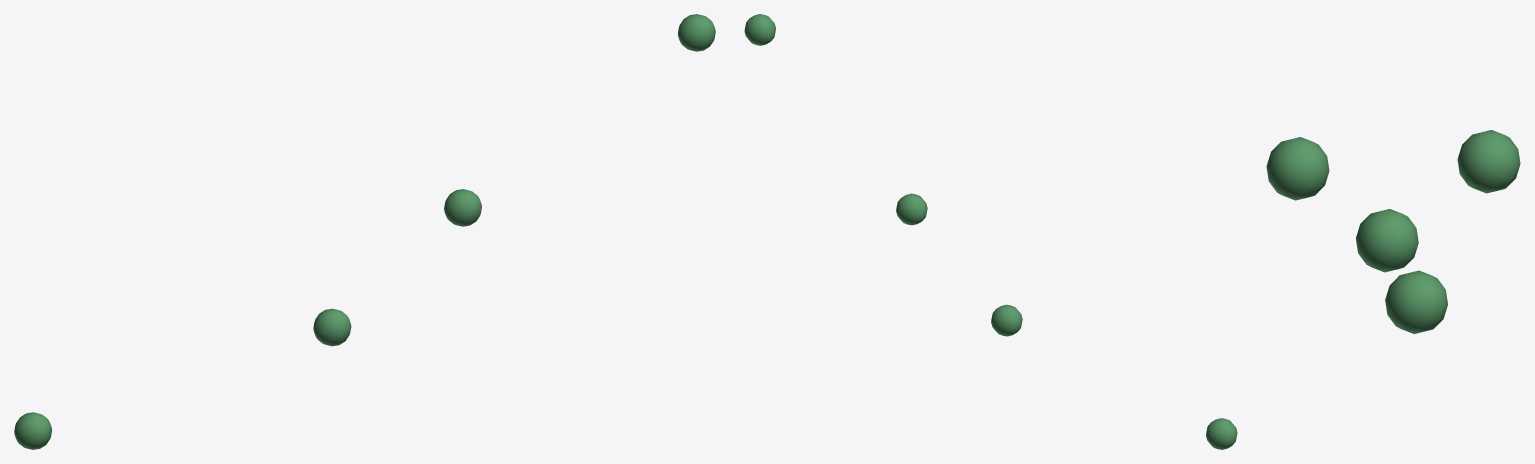
The picture shows the model from 3 angles, left to right: view 1: azimuth 30°, elevation 25°; view 2: azimuth 150°, elevation 25°; view 3: azimuth 270°, elevation 25°; orthographic projection. The views are drawn at different scales.
Parts seen in each view (by area): view 1: 胰上淋巴结; view 2: 胰上淋巴结; view 3: 胰上淋巴结.
Boxes of the visible parts, left/top/right/bottom form: 胰上淋巴结: left=14, top=14, right=715, bottom=449; 胰上淋巴结: left=744, top=14, right=1237, bottom=449; 胰上淋巴结: left=1266, top=130, right=1520, bottom=333.
Size of the model in its own units: 0.0742 by 0.0362 by 0.0152.
